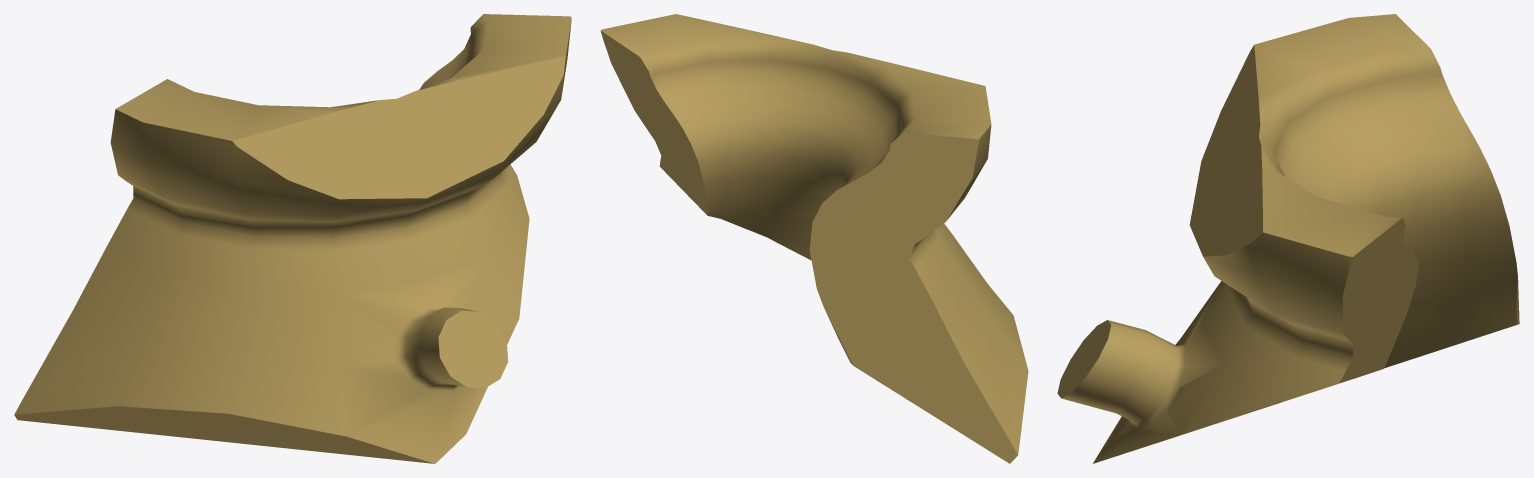
The model's file is broken_pot_cell.029.fbx.
3 views of the same model, side by side, from view 1: azimuth 30°, elevation 25°; view 2: azimuth 150°, elevation 25°; view 3: azimuth 270°, elevation 25° (orthographic). The views are drawn at different scales.
Parts seen in each view (by area): view 1: broken_pot_cell.029; view 2: broken_pot_cell.029; view 3: broken_pot_cell.029.
Part boxes in pixels (bbox=[...]): broken_pot_cell.029: bbox=[14, 14, 571, 463]; broken_pot_cell.029: bbox=[600, 14, 1028, 463]; broken_pot_cell.029: bbox=[1057, 14, 1519, 463].
Bounding box in the file's own units: 1.2 × 0.8308 × 0.7259.
